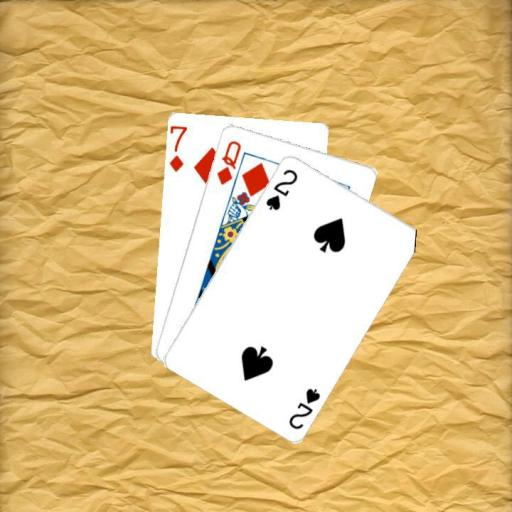2S: (263, 165, 300, 212), (285, 384, 322, 431)
7D: (167, 123, 189, 174)
QD: (214, 137, 243, 187)
